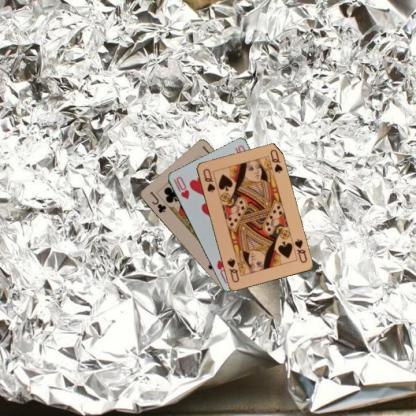10h: (173, 174, 190, 200)
Jc: (147, 188, 167, 214)
Qs: (292, 236, 308, 264), (201, 166, 216, 193)
